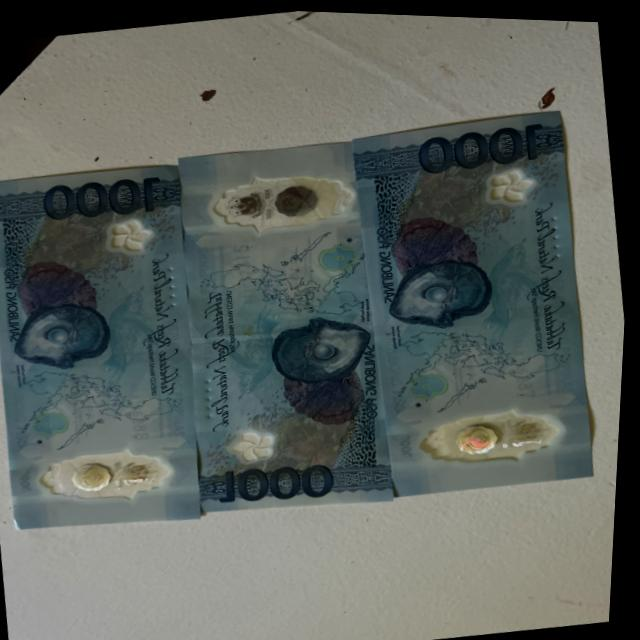clear_window: (197, 156, 363, 240), (29, 438, 193, 514), (416, 395, 569, 471)
sampaguita: (479, 157, 544, 207), (98, 218, 160, 260), (230, 422, 292, 463)
